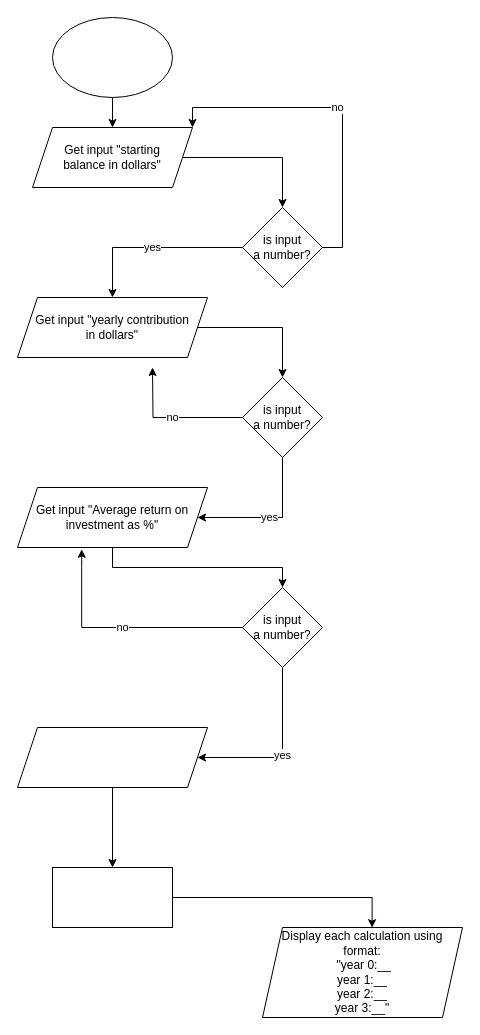
Some shapes in this 480 by 1035 pixel diagram are drawn without their labels. Each missing label, with the centre of its shape:
calculate balance at the end of each year for 4 years: pixel 112 897
Get input "Number of years": pixel 112 757
Start: pixel 112 57
